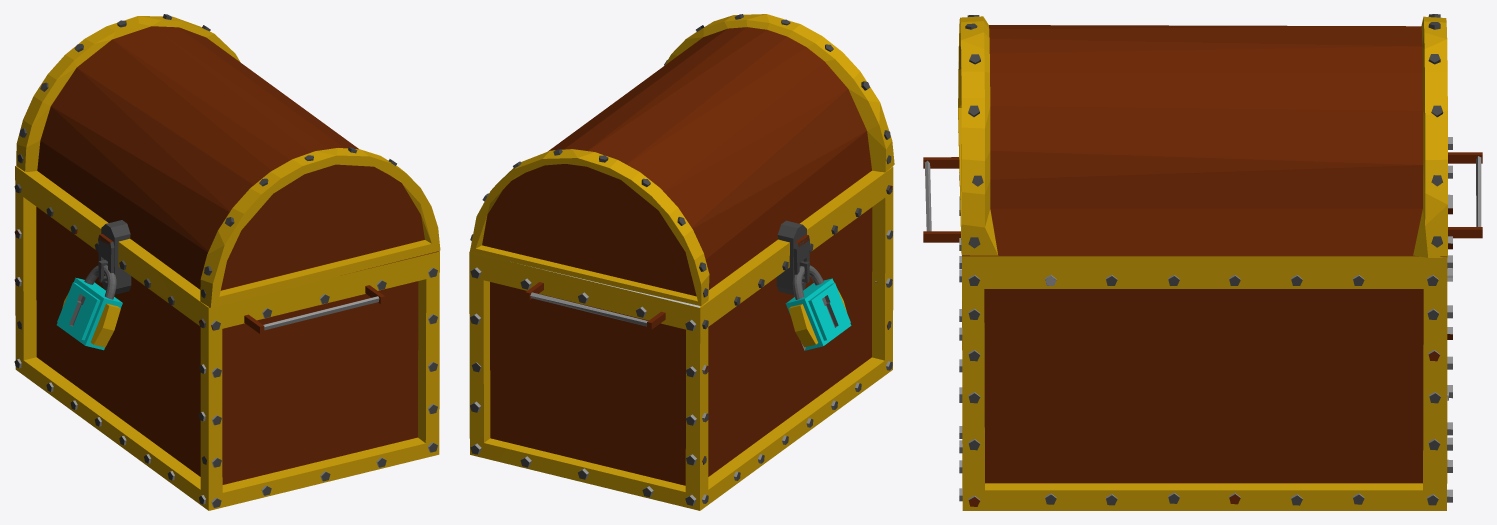
Rendered from lightblueChestAndLock.fbx.
3 renders of one model, left to right at view 1: azimuth 30°, elevation 25°; view 2: azimuth 150°, elevation 25°; view 3: azimuth 270°, elevation 25°, orthographic. The views are drawn at different scales.
Visible parts, largest first — view 1: Cube.001, Cube; view 2: Cube.001, Cube; view 3: Cube.001.
Part boxes in pixels (x1,y1,x2,y2): Cube.001: (14,14,440,510); Cube: (56,265,122,350); Cube.001: (469,14,894,510); Cube: (785,265,851,350); Cube.001: (923,14,1482,510).
Bounding box in the file's own units: 239 × 270 × 334.
